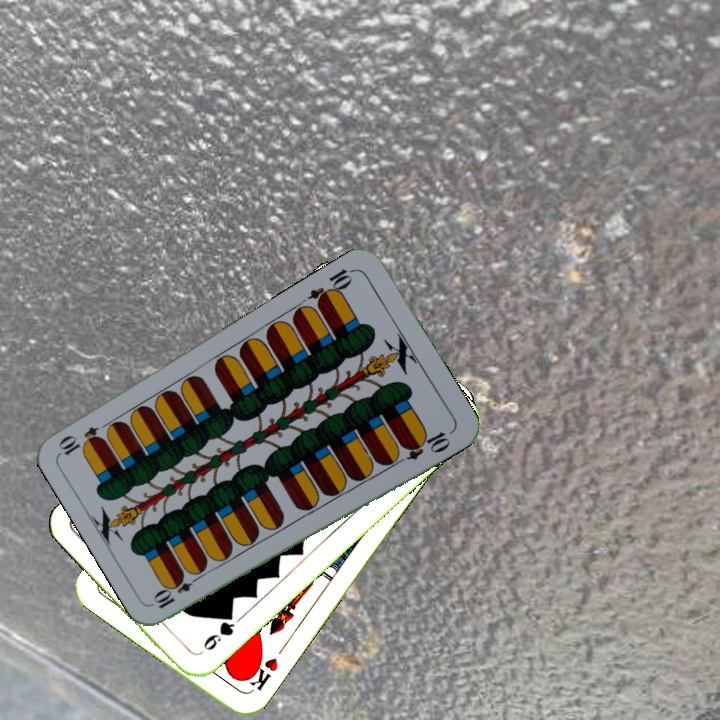E10: (304, 264, 358, 310), (150, 569, 205, 612)
G9: (199, 608, 238, 654)
HK: (241, 652, 281, 695)
